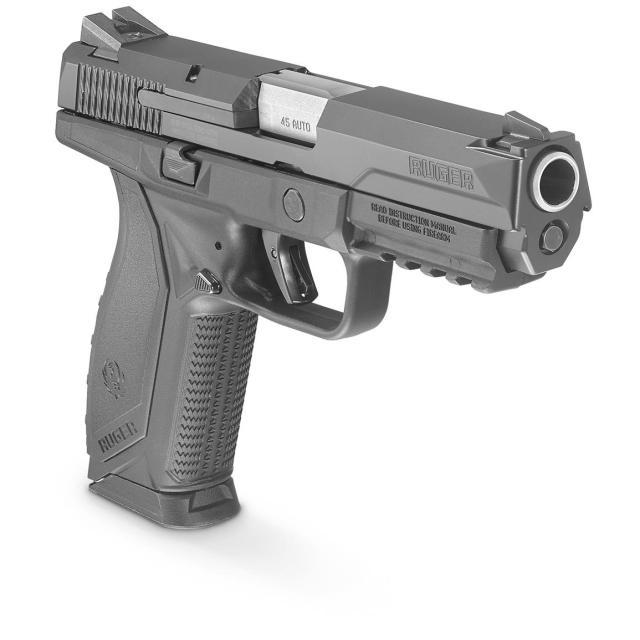Pistol: (40, 0, 620, 577)
